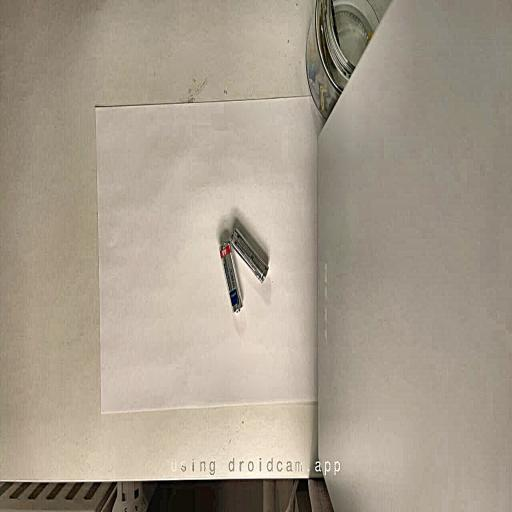RainbowAA: (231, 229, 268, 281), (220, 241, 242, 312)
